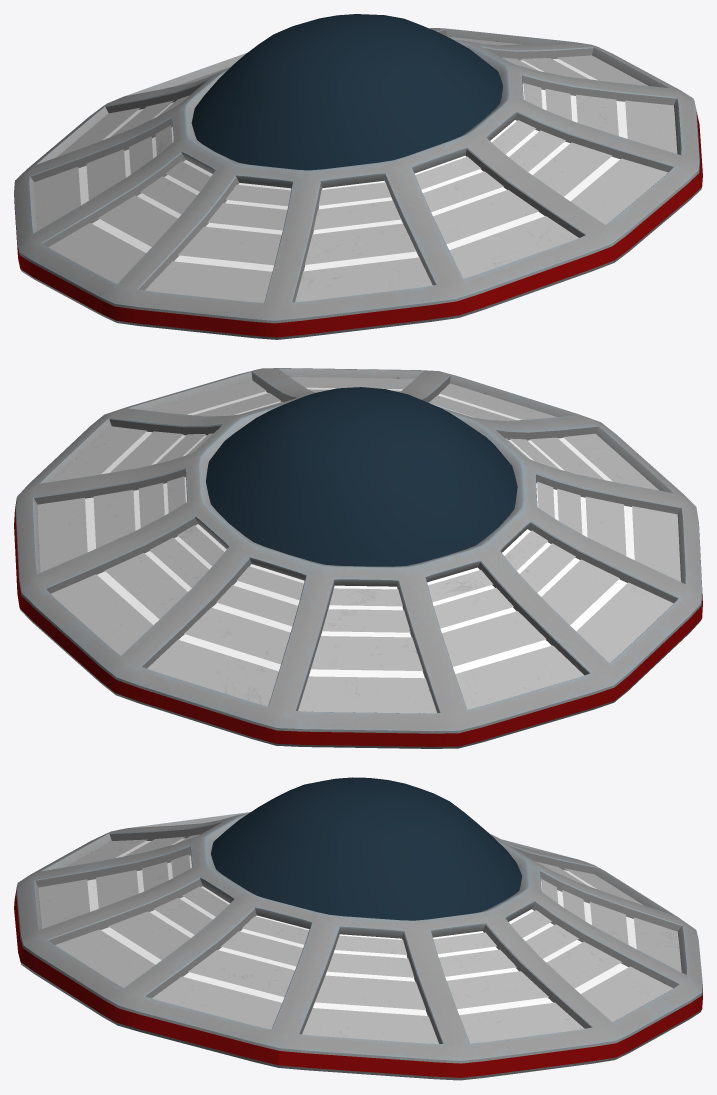
Rendered from ovni.obj.
3 renders of one model, top to bottom at view 1: azimuth 30°, elevation 25°; view 2: azimuth 150°, elevation 25°; view 3: azimuth 270°, elevation 25°, orthographic.
Parts seen in each view (by area): view 1: UFO_metal_0, UFO001_light_glass_0, glass_UFO_light_glass_0, light_left_light_glass_0, light_UFO_light_glass_0; view 2: UFO_metal_0, UFO001_light_glass_0, glass_UFO_light_glass_0, light_UFO_light_glass_0, light_left_light_glass_0; view 3: UFO_metal_0, UFO001_light_glass_0, glass_UFO_light_glass_0, light_left_light_glass_0, light_UFO_light_glass_0.
Part boxes in pixels (bbox=[...]): UFO_metal_0: bbox=[14, 28, 701, 339]; UFO001_light_glass_0: bbox=[34, 36, 677, 302]; glass_UFO_light_glass_0: bbox=[191, 14, 502, 170]; light_left_light_glass_0: bbox=[14, 112, 702, 337]; light_UFO_light_glass_0: bbox=[78, 59, 627, 280]; UFO_metal_0: bbox=[15, 368, 702, 748]; UFO001_light_glass_0: bbox=[37, 377, 680, 713]; glass_UFO_light_glass_0: bbox=[206, 387, 517, 566]; light_UFO_light_glass_0: bbox=[85, 387, 634, 678]; light_left_light_glass_0: bbox=[14, 501, 702, 746]; UFO_metal_0: bbox=[16, 812, 702, 1080]; UFO001_light_glass_0: bbox=[38, 834, 681, 1043]; glass_UFO_light_glass_0: bbox=[211, 777, 521, 920]; light_left_light_glass_0: bbox=[14, 887, 702, 1077]; light_UFO_light_glass_0: bbox=[87, 838, 636, 1015].
Bounding box in the file's own units: 1.03 × 0.3477 × 1.03.
